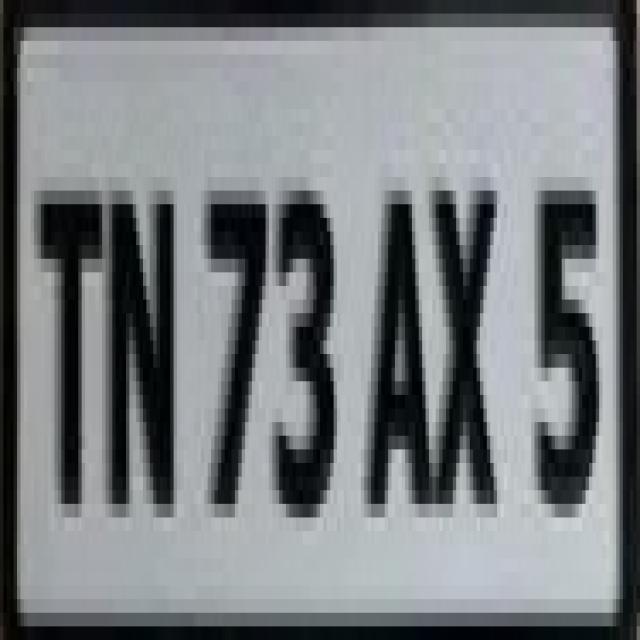3: (272, 178, 342, 525)
5: (532, 152, 604, 529)
7: (205, 165, 271, 543)
A: (366, 173, 433, 525)
N: (104, 158, 183, 546)
T: (32, 175, 109, 531)
X: (428, 149, 504, 523)
